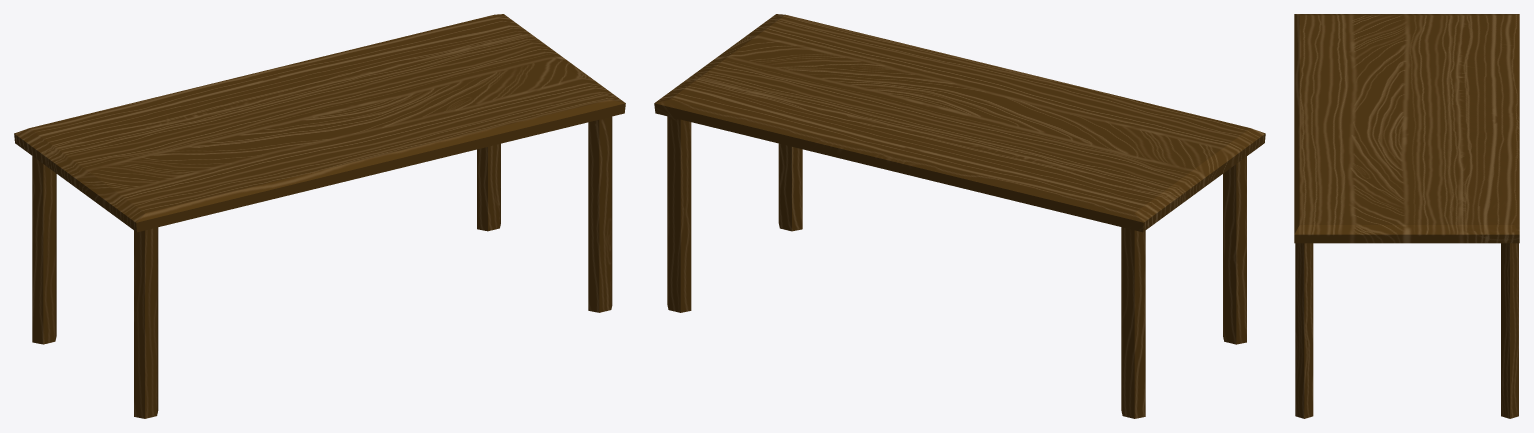
File: table_v1_textured.fbx
The picture shows the model from 3 angles, left to right: view 1: azimuth 30°, elevation 25°; view 2: azimuth 150°, elevation 25°; view 3: azimuth 270°, elevation 25°; orthographic projection. The views are drawn at different scales.
Parts seen in each view (by area): view 1: Table_v1_copy_ZBrushPolyMesh3D; view 2: Table_v1_copy_ZBrushPolyMesh3D; view 3: Table_v1_copy_ZBrushPolyMesh3D.
Boxes of the visible parts, x1=… form: Table_v1_copy_ZBrushPolyMesh3D: x1=14, y1=14, x2=625, y2=418; Table_v1_copy_ZBrushPolyMesh3D: x1=654, y1=14, x2=1265, y2=418; Table_v1_copy_ZBrushPolyMesh3D: x1=1294, y1=14, x2=1519, y2=418.
Bounding box in the file's own units: 200 × 81.28 × 86.4.
